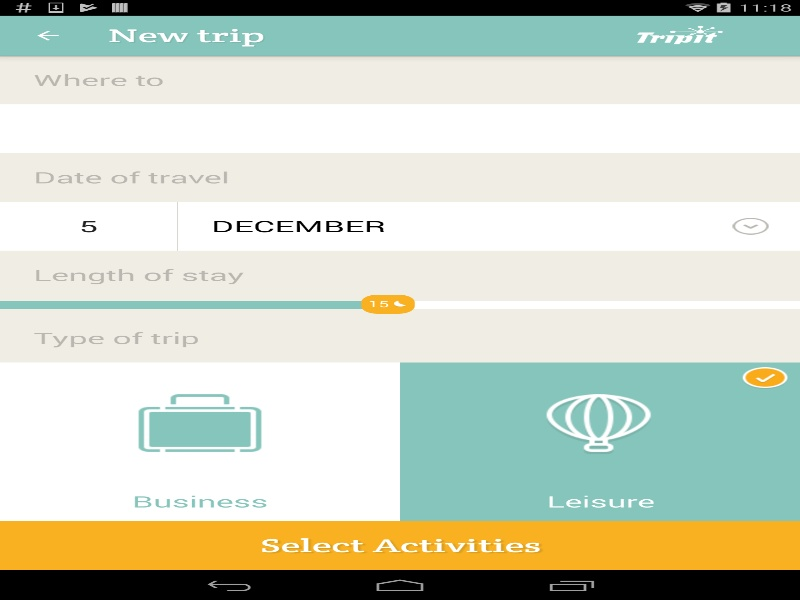Button: (10, 15, 85, 55)
Input: (0, 104, 800, 153), (0, 215, 177, 236)
